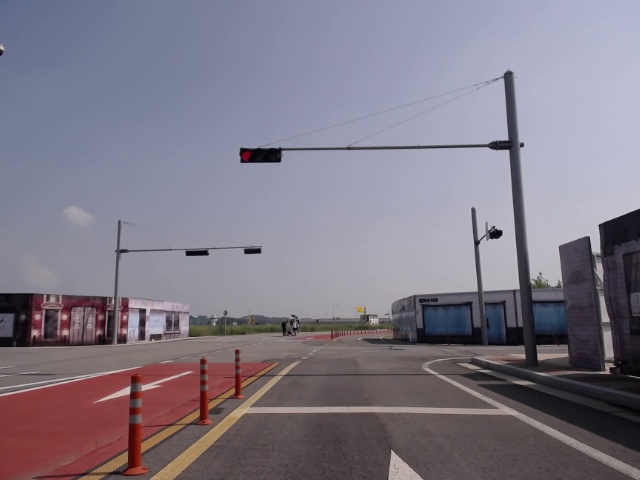red_3: (240, 149, 279, 162)
